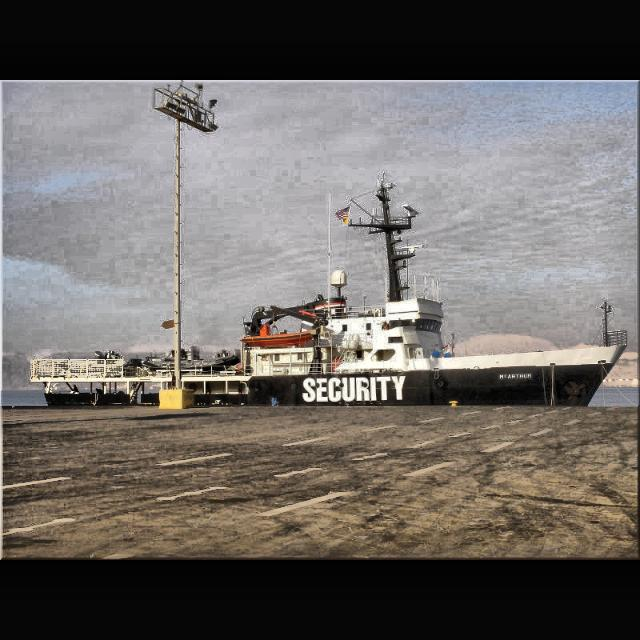patrol_vessel: (30, 174, 628, 408)
